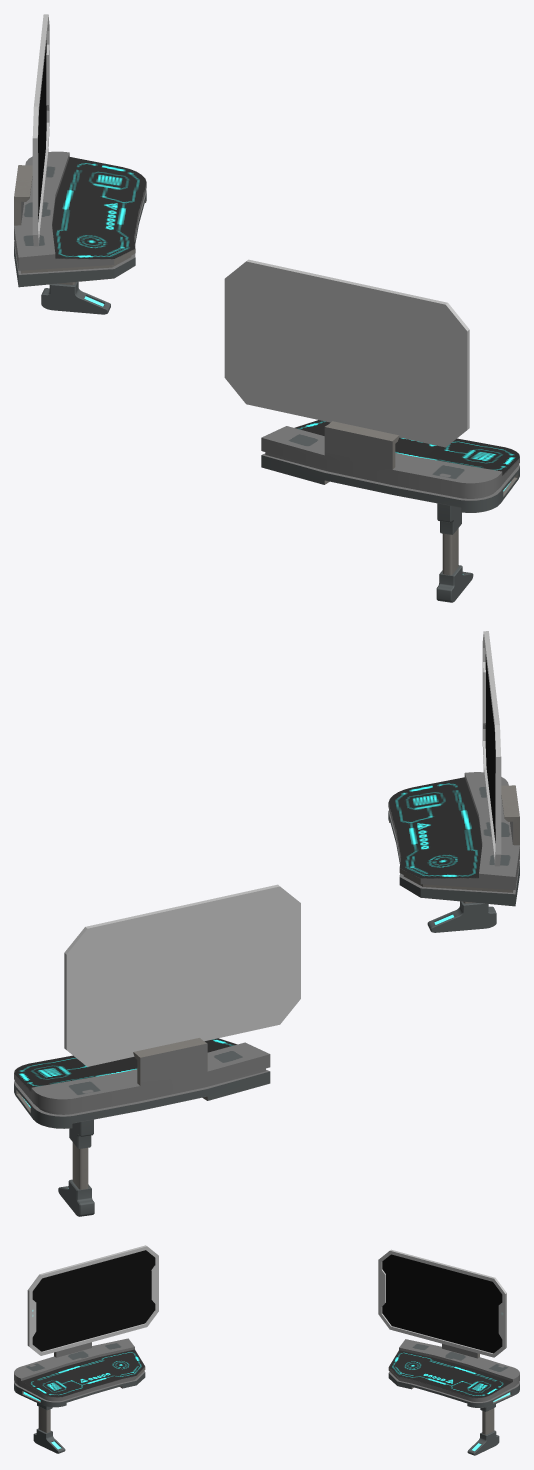
Rendered from panatllasx2.fbx.
3 renders of one model, top to bottom at view 1: azimuth 30°, elevation 25°; view 2: azimuth 150°, elevation 25°; view 3: azimuth 270°, elevation 25°, orthographic. The views are drawn at different scales.
Parts seen in each view (by area): view 1: Side_panel_low, Side_panel_low.001; view 2: Side_panel_low.001, Side_panel_low; view 3: Side_panel_low, Side_panel_low.001.
Part boxes in pixels (x1,y1,x2,y2): Side_panel_low: (224,259,519,602); Side_panel_low.001: (14,14,146,314); Side_panel_low.001: (14,884,300,1216); Side_panel_low: (388,631,519,932); Side_panel_low: (14,1245,158,1453); Side_panel_low.001: (378,1249,519,1455).
Bounding box in the file's own units: 99.29 × 139 × 379.
